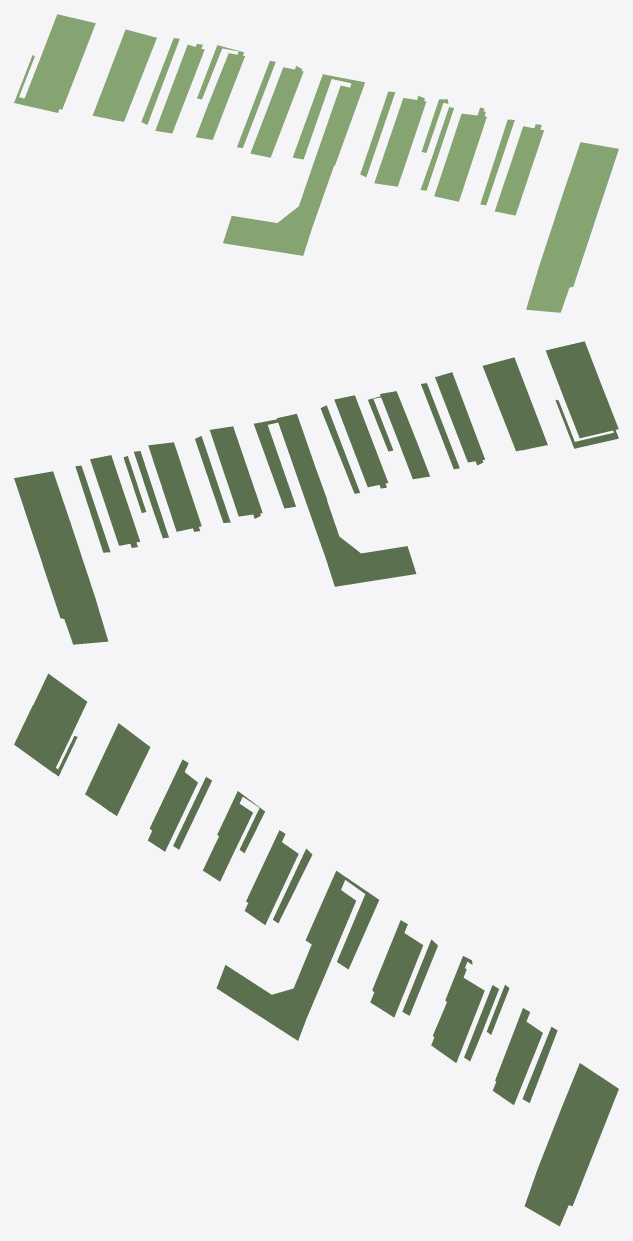
Rendered from Roof_Hini_4.0_Slope_2.0.obj.
3 views of the same model, one above another, from view 1: azimuth 30°, elevation 25°; view 2: azimuth 150°, elevation 25°; view 3: azimuth 330°, elevation 25° (orthographic).
Parts seen in each view (by area): view 1: 5, 1, 10, 4, 9, 3, 2, 7, 8, 6; view 2: 1, 5, 10, 4, 9, 3, 2, 7, 8, 6; view 3: 5, 1, 10, 4, 3, 9, 7, 2, 8, 6.
Boxes of the visible parts, x1,y1,x2,y2 form: 5: (223, 74, 364, 255); 1: (526, 142, 618, 312); 10: (14, 14, 95, 112); 4: (420, 99, 486, 201); 9: (92, 29, 156, 121); 3: (360, 91, 426, 186); 2: (480, 119, 543, 215); 7: (237, 61, 303, 157); 8: (141, 38, 204, 133); 6: (196, 45, 244, 139); 1: (14, 471, 108, 644); 5: (254, 414, 416, 586); 10: (545, 341, 618, 448); 4: (123, 442, 201, 538); 9: (482, 357, 547, 451); 3: (195, 426, 262, 522); 2: (75, 455, 139, 552); 7: (320, 395, 388, 493); 8: (421, 372, 484, 468); 6: (368, 391, 429, 479); 5: (216, 871, 378, 1040); 1: (524, 1063, 618, 1226); 10: (14, 673, 86, 776); 4: (431, 956, 509, 1062); 3: (370, 920, 437, 1017); 9: (85, 723, 150, 815); 7: (244, 830, 312, 924); 2: (492, 1008, 557, 1104); 8: (148, 759, 211, 851); 6: (203, 791, 264, 881).
Size of the model in its own units: 136 by 91.5 by 5.26.
